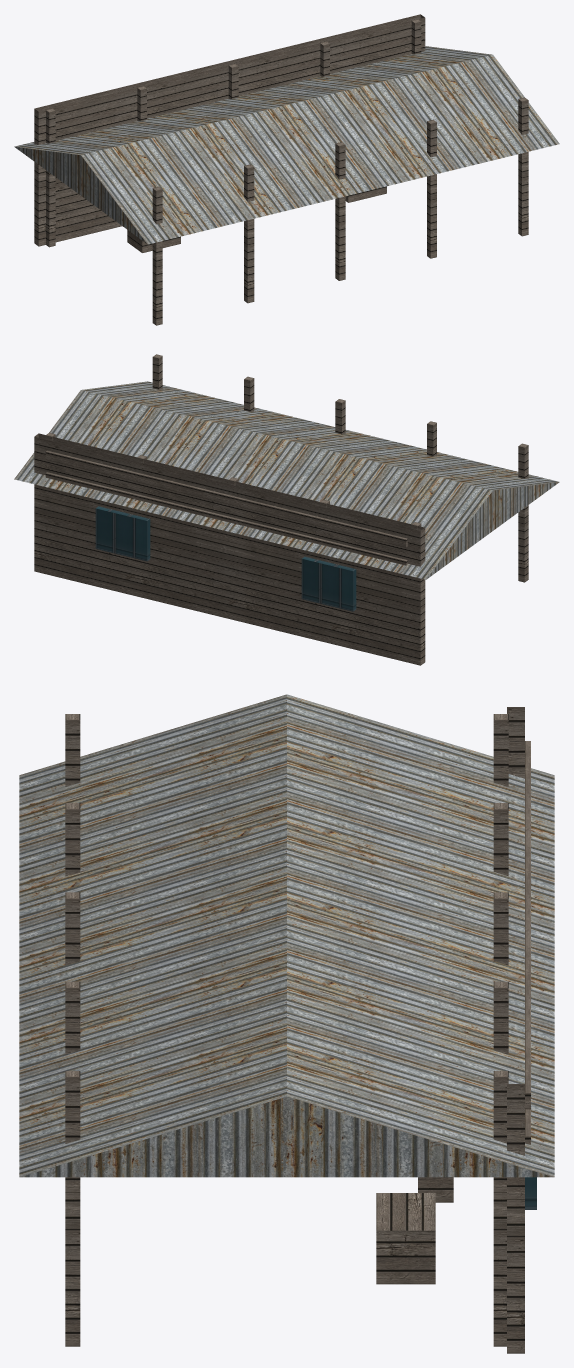
The model's file is windbreak-shed_lod0.gltf.
The picture shows the model from 3 angles, top to bottom: view 1: azimuth 30°, elevation 25°; view 2: azimuth 150°, elevation 25°; view 3: azimuth 270°, elevation 25°; orthographic projection. The views are drawn at different scales.
Visible parts, largest first — view 1: windbreak-shed_roof, windbreak-shed_walls, windbreak-shed_posts, windbreak-shed__hay_bale_a; view 2: windbreak-shed_walls, windbreak-shed_roof, windbreak-shed_fen_07-glass-curtain-blue_0, windbreak-shed__slat_b, windbreak-shed_posts, windbreak-shed__slat_a; view 3: windbreak-shed_roof, windbreak-shed_posts, windbreak-shed_walls, windbreak-shed__hay_bale_b, windbreak-shed__slat_b.
Part boxes in pixels (left/top/right/bottom): windbreak-shed_roof: left=14, top=46, right=559, bottom=244; windbreak-shed_walls: left=34, top=14, right=425, bottom=246; windbreak-shed_posts: left=45, top=19, right=528, bottom=325; windbreak-shed__hay_bale_a: left=127, top=230, right=180, bottom=252; windbreak-shed_walls: left=34, top=433, right=425, bottom=665; windbreak-shed_roof: left=14, top=381, right=559, bottom=579; windbreak-shed_fen_07-glass-curtain-blue_0: left=95, top=506, right=356, bottom=611; windbreak-shed__slat_b: left=45, top=450, right=407, bottom=547; windbreak-shed_posts: left=45, top=354, right=528, bottom=582; windbreak-shed__slat_a: left=45, top=472, right=407, bottom=565; windbreak-shed_roof: left=19, top=694, right=554, bottom=1177; windbreak-shed_posts: left=65, top=714, right=508, bottom=1346; windbreak-shed_walls: left=507, top=707, right=524, bottom=1353; windbreak-shed__hay_bale_b: left=376, top=1193, right=435, bottom=1284; windbreak-shed__slat_b: left=525, top=741, right=530, bottom=1109.
Size of the model in its own units: 16 by 5 by 9.
